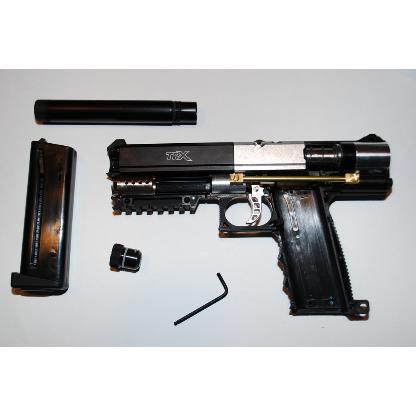gun: (107, 132, 393, 312)
